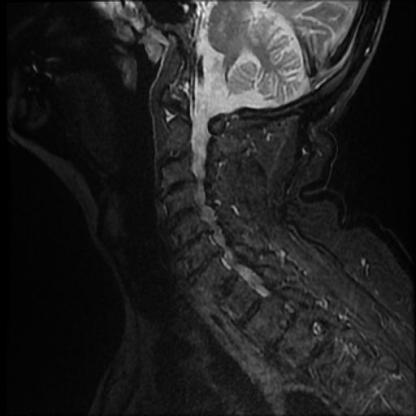Disc Bulgerotation: (168, 232, 218, 252), (180, 256, 229, 276), (163, 207, 201, 225), (158, 149, 192, 166), (161, 179, 199, 194)
Disc Protrusionrotation: (158, 149, 192, 166)
